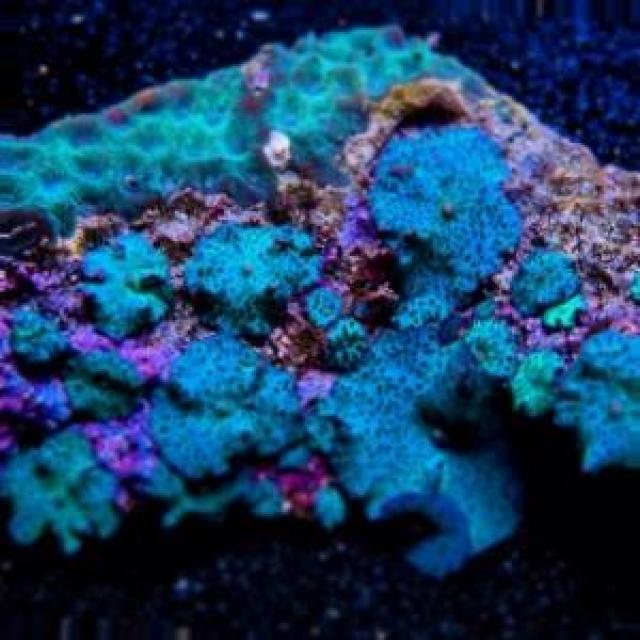healthy coral: (0, 26, 640, 574)
